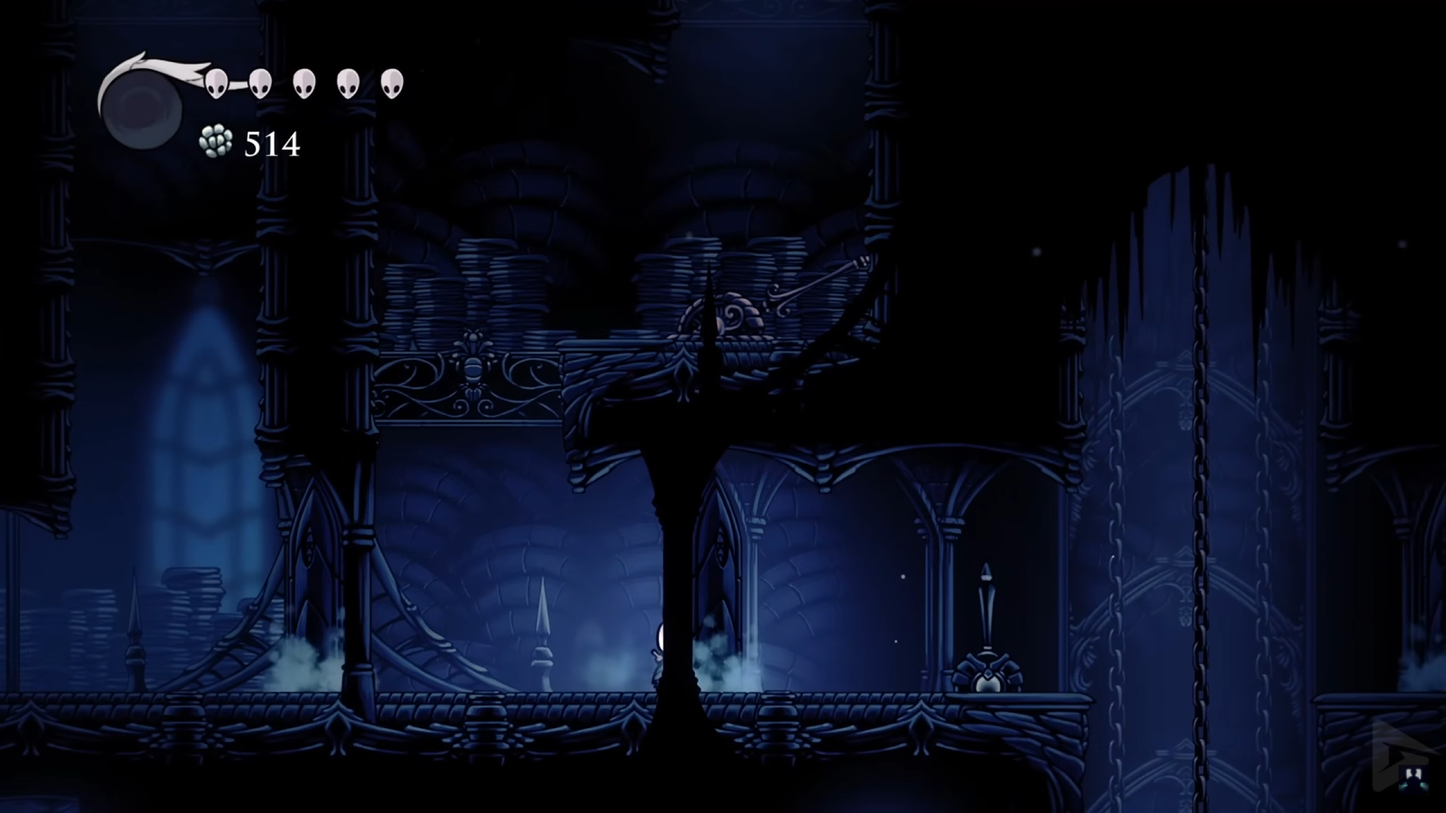HK: (646, 616, 672, 690)
